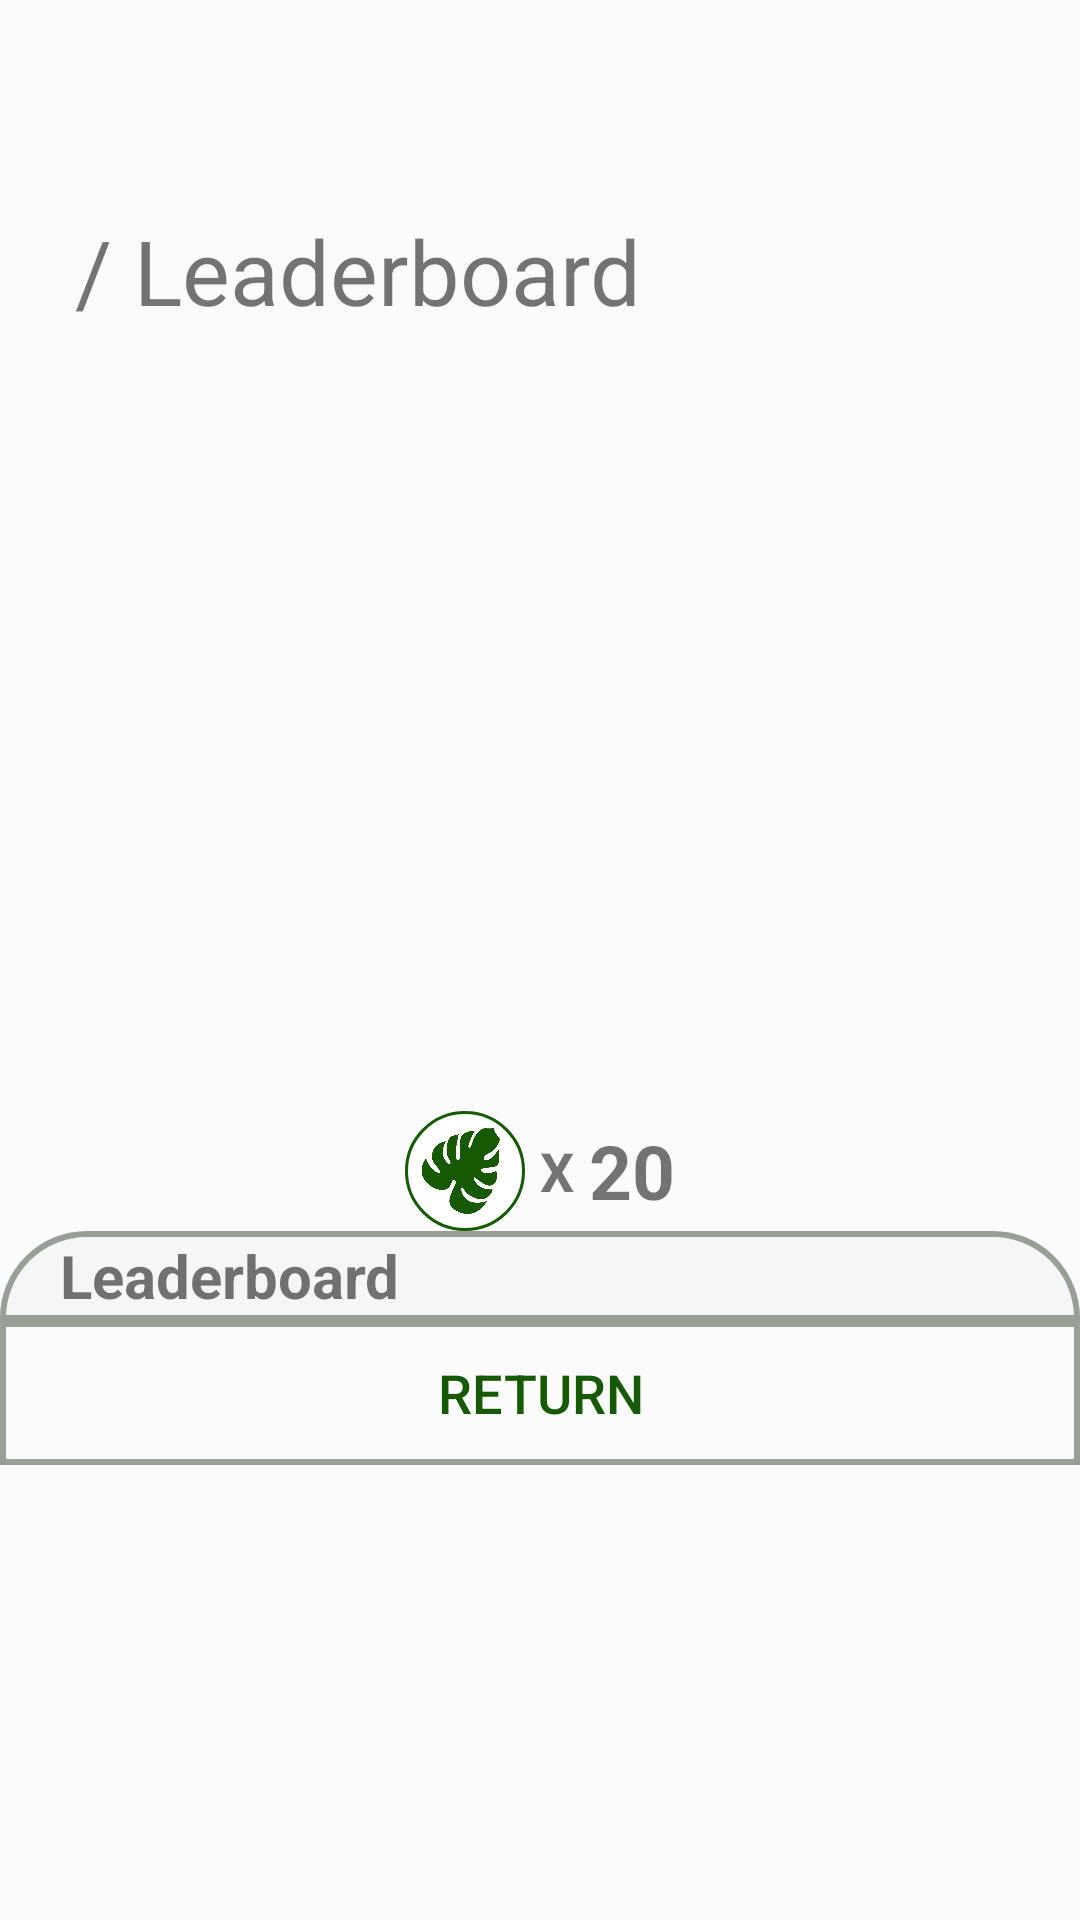

Icon click points for this 1080*1920 phone screenshot, format point (x, y):
leaf: point (461, 1171)
